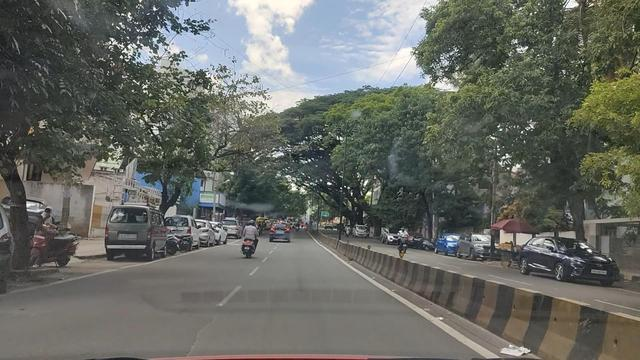LMV: (107, 200, 168, 261), (229, 213, 260, 260)
